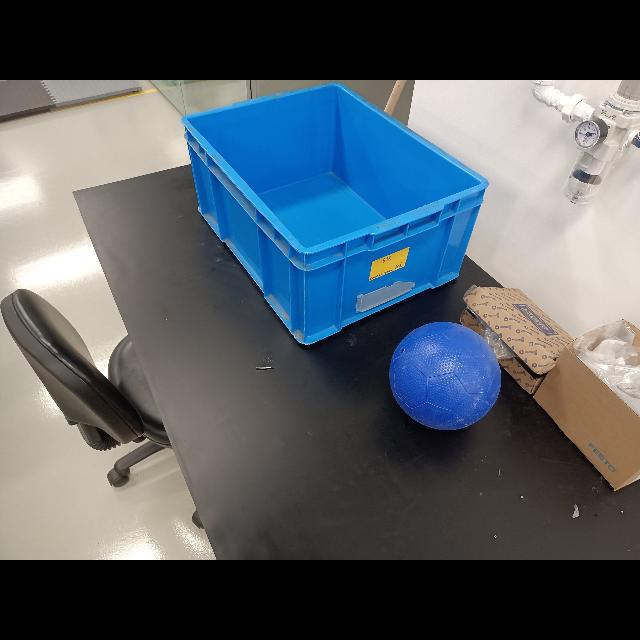B: (390, 322, 502, 431)
